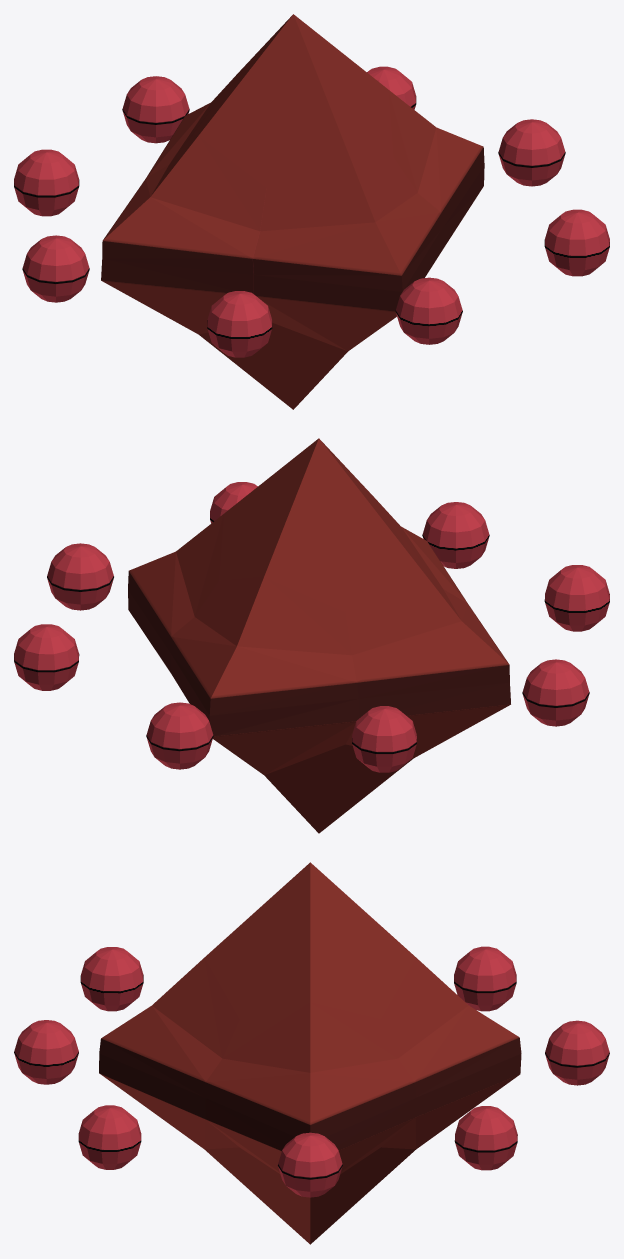
File: normalEnemy.obj
3 views of the same model, one above another, from view 1: azimuth 30°, elevation 25°; view 2: azimuth 150°, elevation 25°; view 3: azimuth 270°, elevation 25° (orthographic). The views are drawn at different scales.
Visible parts, largest first — view 1: 立方体; view 2: 立方体; view 3: 立方体.
Boxes of the visible parts, x1,y1,x2,y2 form: 立方体: [14, 14, 609, 409]; 立方体: [14, 438, 609, 833]; 立方体: [14, 862, 609, 1244].
Bounding box in the file's own units: 4.24 × 3 × 4.24.
Materials: 1 (1 with a texture image).
